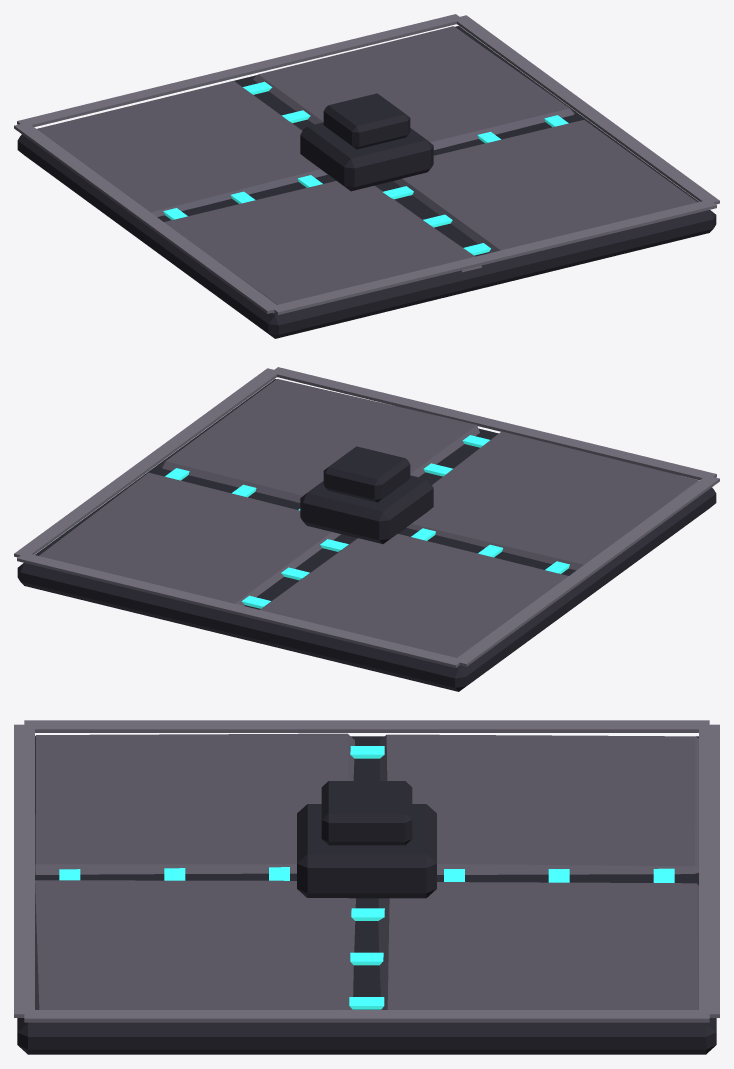
File: pad.glb
3 renders of one model, top to bottom at view 1: azimuth 30°, elevation 25°; view 2: azimuth 150°, elevation 25°; view 3: azimuth 270°, elevation 25°, orthographic. The views are drawn at different scales.
Visible parts, largest first — view 1: pad_weight_corrupted, pad_charge_corrupted; view 2: pad_weight_corrupted, pad_charge_corrupted; view 3: pad_weight_corrupted, pad_charge_corrupted.
Part boxes in pixels (x1=…): pad_weight_corrupted: x1=14, y1=14, x2=719, y2=314; pad_charge_corrupted: x1=17, y1=26, x2=716, y2=338; pad_weight_corrupted: x1=14, y1=367, x2=719, y2=667; pad_charge_corrupted: x1=17, y1=379, x2=716, y2=691; pad_weight_corrupted: x1=14, y1=720, x2=719, y2=1022; pad_charge_corrupted: x1=17, y1=736, x2=716, y2=1054.
Bounding box in the file's own units: 2.02 × 0.3641 × 2.02.
